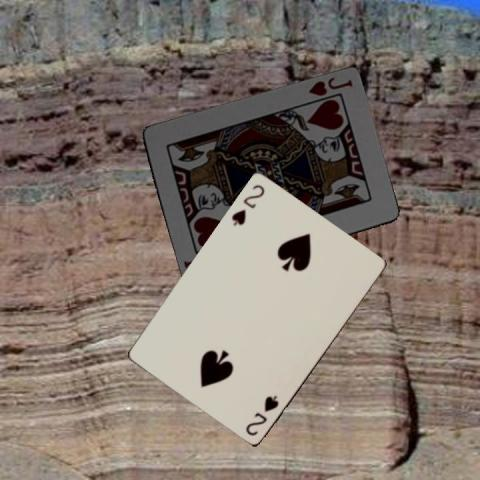2s: (228, 182, 266, 228), (243, 393, 280, 438)
Jh: (305, 74, 354, 98)
